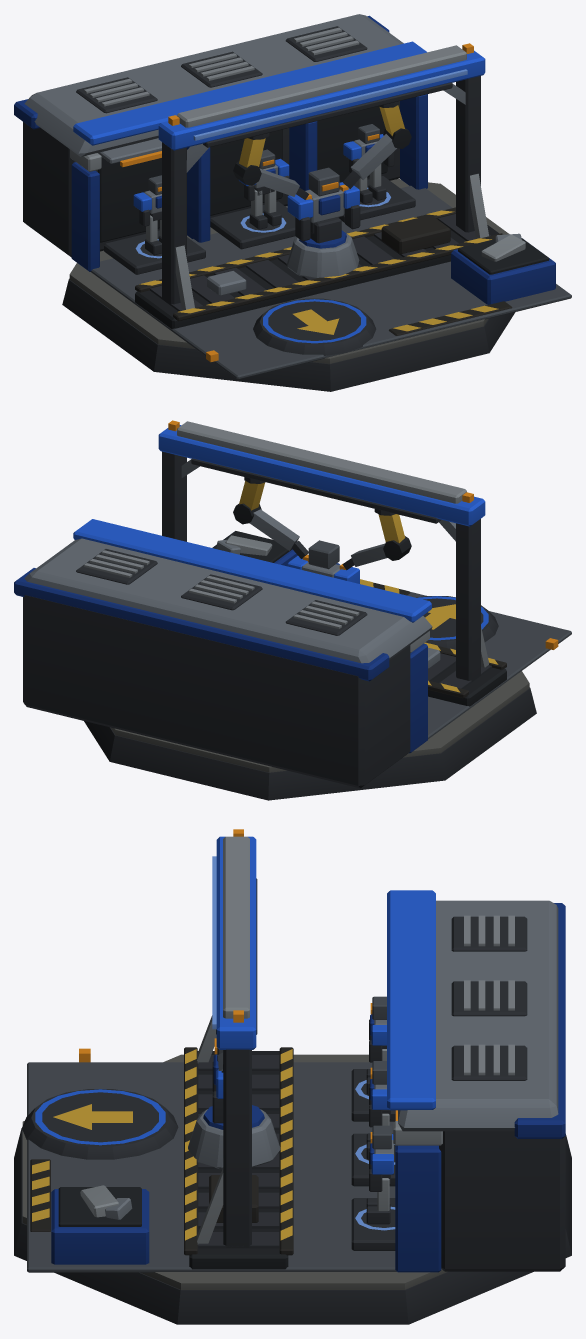
File: assembly-bay.glb
3 renders of one model, top to bottom at view 1: azimuth 30°, elevation 25°; view 2: azimuth 150°, elevation 25°; view 3: azimuth 270°, elevation 25°, orthographic. The views are drawn at different scales.
Parts seen in each view (by area): view 1: hull; view 2: hull; view 3: hull.
Boxes of the visible parts, left/top/right/bottom form: hull: left=14, top=14, right=571, bottom=391; hull: left=14, top=420, right=571, bottom=800; hull: left=14, top=829, right=571, bottom=1324.
Bounding box in the file's own units: 1.94 × 1.09 × 1.94.
